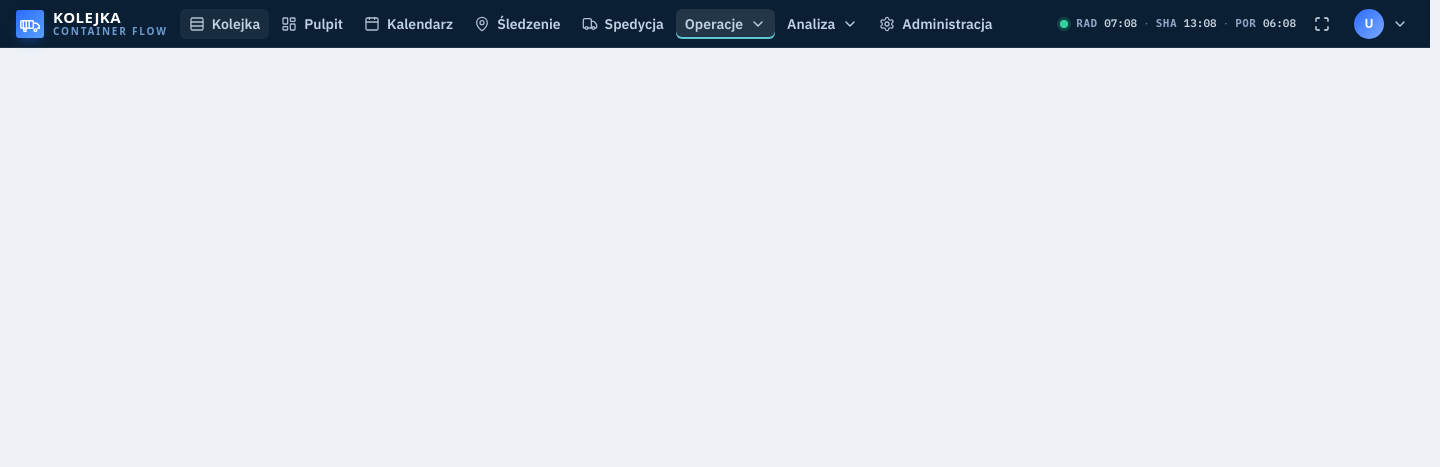
nagłówki stron › menu: grupa z aktywną stroną jest podświetlona (Operacje na /zamowienia)
Click the button "Operacje": (726, 24) [676, 8, 775, 38]
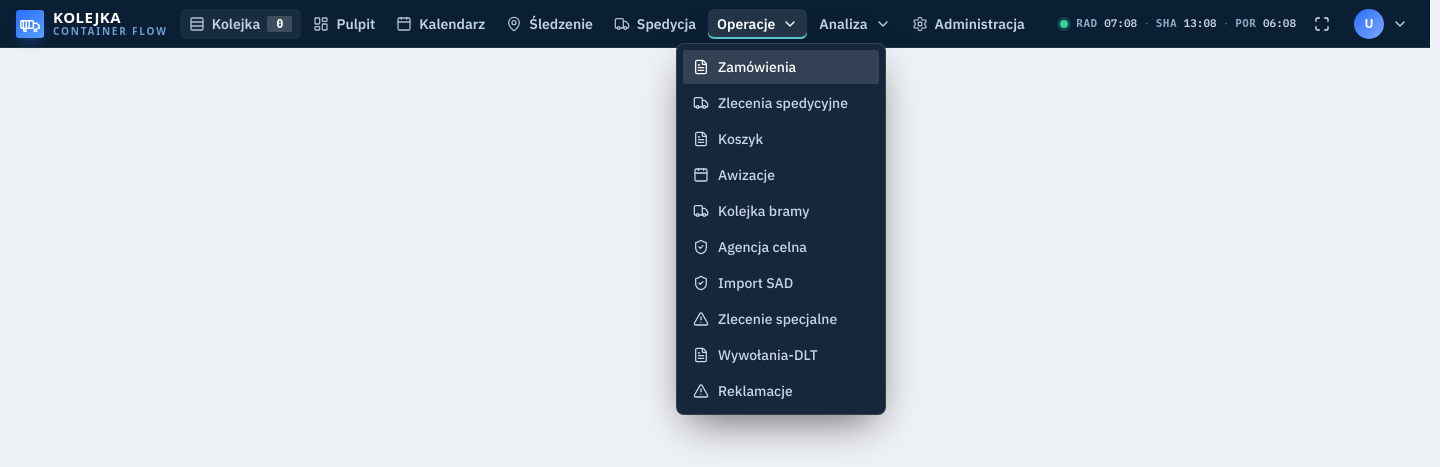
Now the link with class "tn-drop-link" reads "Zamówienia", box [683, 50, 879, 84]
